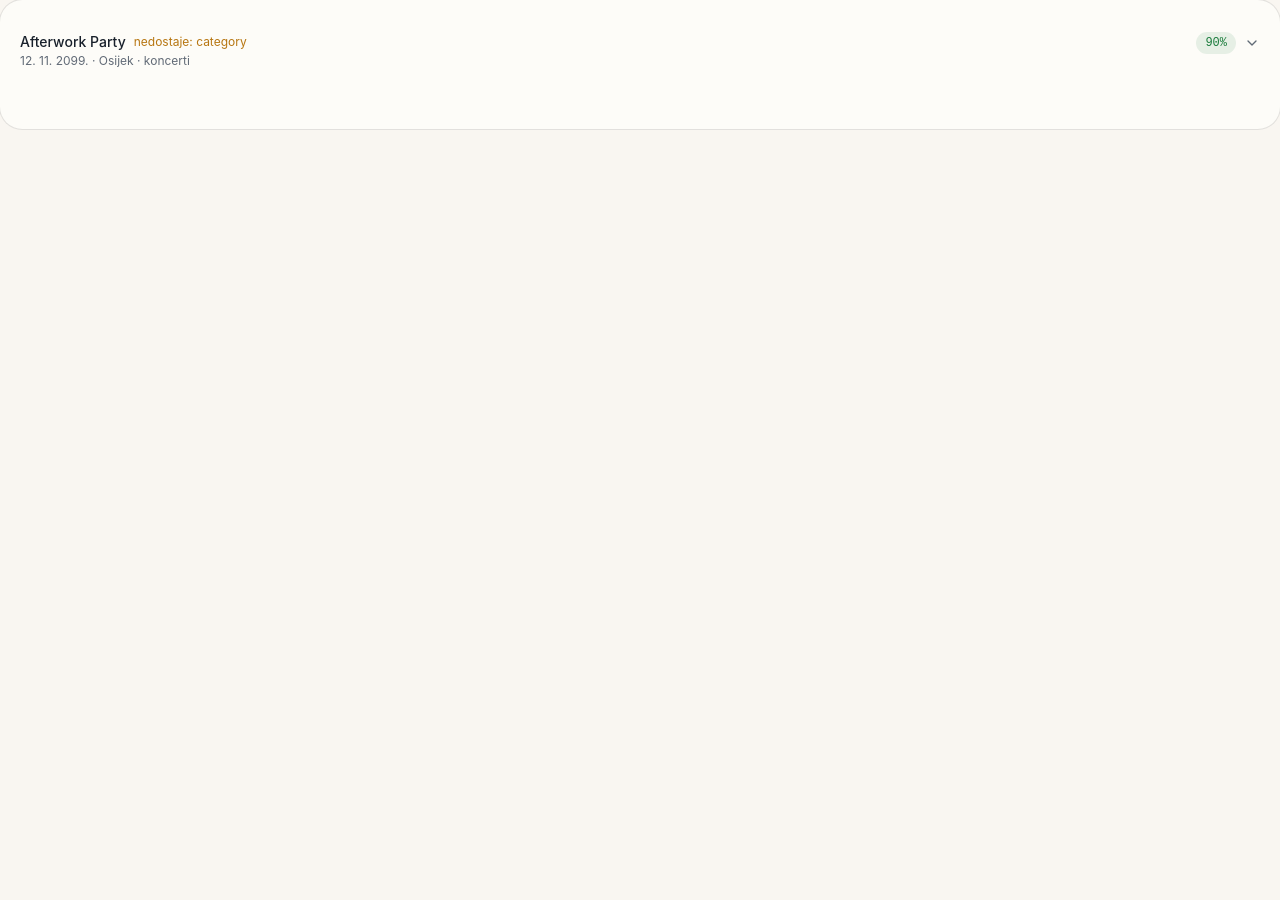
Test: address filled from the poster's venue name (VEN-04) › fills the stored address when the poster named a venue and nothing else
Click the button at {"x": 73, "y": 42}, box [0,16,1279,85]
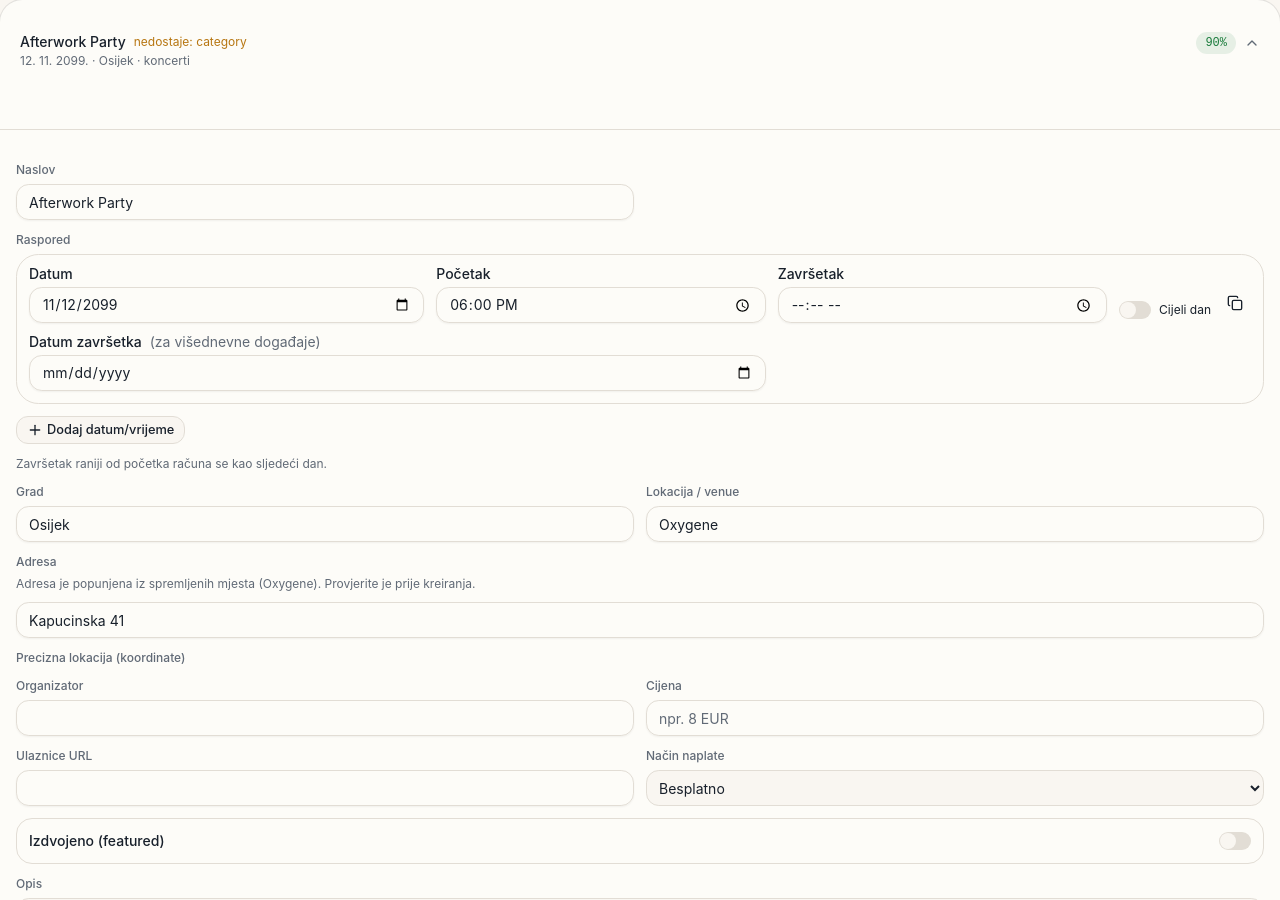
Now the label "Adresa" is shown, box [16,554,57,569]
Now the text "spremljenih mjesta" is shown, box [16,576,263,591]
